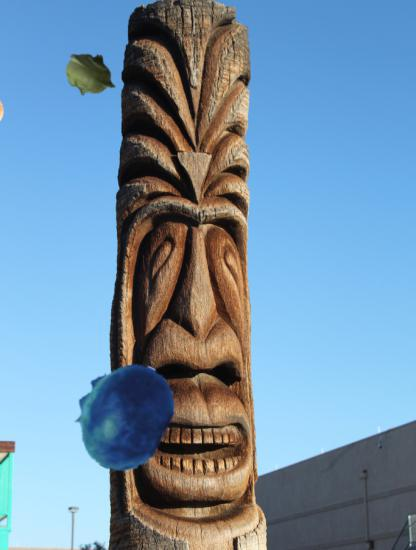Huckleberry: (68, 360, 179, 471)
Kohlrabi: (63, 47, 119, 103)
